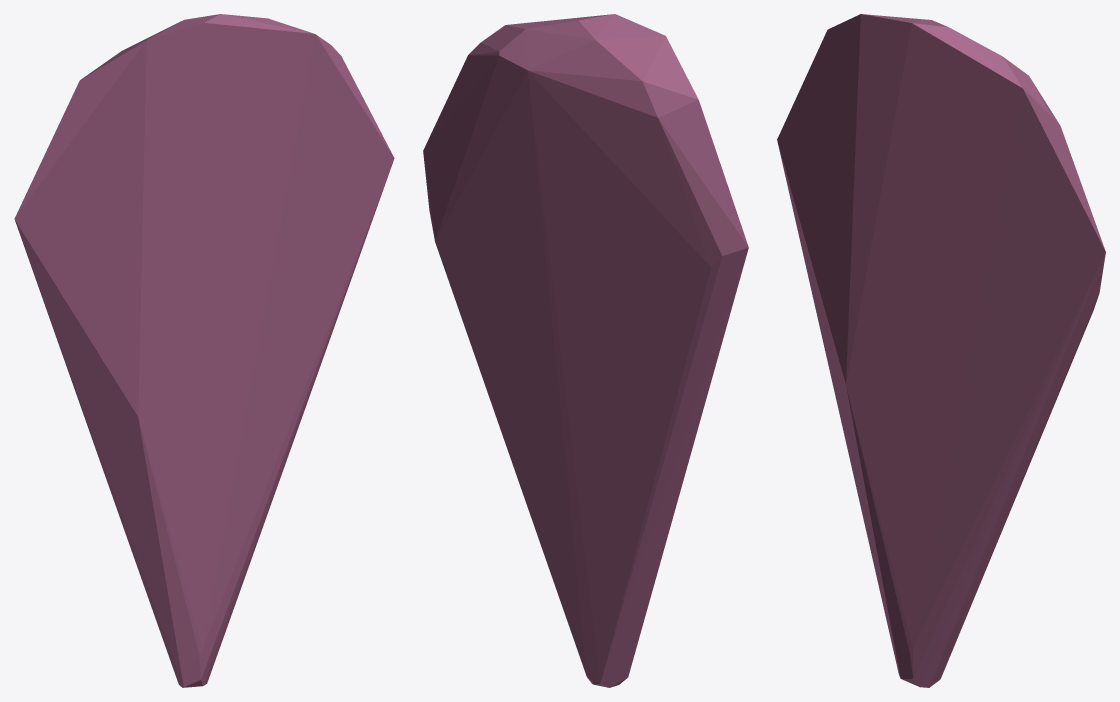
File: kitchenware_pan_l01.glb
3 views of the same model, side by side, from view 1: azimuth 30°, elevation 25°; view 2: azimuth 150°, elevation 25°; view 3: azimuth 330°, elevation 25° (orthographic).
Visible parts, largest first — view 1: geometry_0; view 2: geometry_0; view 3: geometry_0.
Boxes of the visible parts, x1,y1,x2,y2 form: geometry_0: (14,14,394,687); geometry_0: (423,14,748,687); geometry_0: (777,14,1105,687).
Bounding box in the file's own units: 0.2654 × 0.4785 × 0.0432.
